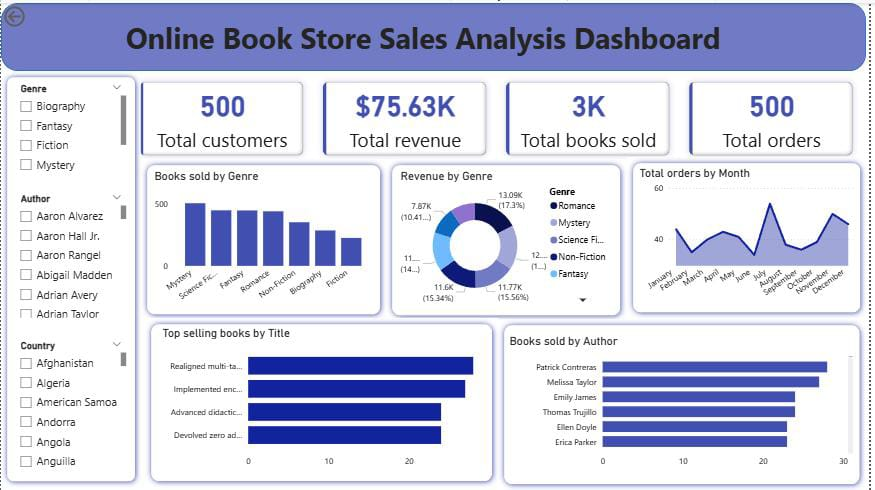

Layout of this report page (visuals, bound fields, positions):
{"tool":"powerbi","page":{"name":"Page 1","canvas":[1284,740],"ordinal":0},"visuals":[{"type":"slicer","fields":{"Values":["Books.Genre"]},"box":[999.4,23,280.8,240.5],"z":0},{"type":"slicer","fields":{"Values":["Customers.Country"]},"box":[1055.5,0,224.6,247.7],"z":1000},{"type":"shape","box":[0,0,1280.2,100.8],"z":2000},{"type":"textbox","box":[99.4,17.3,1051.2,67.7],"z":3000},{"type":"actionButton","box":[0,0,100,40],"z":4000},{"type":"cardVisual","fields":{"Data":["Books.Total customers","Books.Total revenue","Books.Total books sold","Books.Total orders"]},"box":[190.1,100.8,1090.1,141.1],"z":5000},{"type":"shape","box":[570.2,230.4,355.7,240.5],"z":6000},{"type":"shape","box":[925.9,227.5,354.2,239],"z":7000},{"type":"shape","box":[207.4,230.4,362.9,239],"z":8000},{"type":"clusteredColumnChart","fields":{"Category":["Books.Genre"],"Y":["Sum(Orders.Quantity)"]},"box":[221.8,246.2,332.6,207.4],"z":9000},{"type":"shape","box":[213.1,466.6,522.7,250.6],"z":10000},{"type":"shape","box":[735.7,467,544.3,253.6],"z":11000},{"type":"areaChart","fields":{"Category":["Orders.Order_Date.Variation.Date Hierarchy.Month"],"Y":["Books.Total orders"]},"box":[940.3,241.9,328.3,211.7],"z":12000},{"type":"shape","box":[0,100.8,207.4,616.3],"z":14000},{"type":"slicer","fields":{"Values":["Books.Genre"]},"box":[15.8,113.8,174.2,149.8],"z":15000},{"type":"slicer","fields":{"Values":["Customers.Country"]},"box":[15.8,493.9,174.2,203],"z":16000},{"type":"slicer","fields":{"Values":["Books.Author"]},"box":[15.8,276.5,174.2,194.4],"z":17000},{"type":"donutChart","fields":{"Category":["Books.Genre"],"Y":["Sum(Orders.Total_Amount)"]},"box":[586.1,246.2,326.9,207.4],"z":18000},{"type":"barChart","fields":{"Category":["Books.Title"],"Y":["Sum(Orders.Quantity)"]},"box":[233.5,478.7,477.1,218.4],"z":19000},{"type":"clusteredBarChart","fields":{"Category":["Books.Author"],"Y":["Sum(Orders.Quantity)"]},"box":[747.5,490.5,519.1,206.6],"z":20000}]}

Visuals, with their boxes in screenshot pixels (x1, y1, x2, y2), scaled from the page's 1284x740 canvas onto the 875x490 screenshot:
slicer - Books.Genre: box(681, 15, 872, 174)
slicer - Customers.Country: box(719, 0, 872, 164)
shape: box(0, 0, 872, 67)
textbox: box(68, 11, 784, 56)
actionButton: box(0, 0, 68, 26)
cardVisual - Books.Total customers x Books.Total revenue: box(130, 67, 872, 160)
shape: box(389, 153, 631, 312)
shape: box(631, 151, 872, 309)
shape: box(141, 153, 389, 311)
clusteredColumnChart - Books.Genre x Sum(Orders.Quantity): box(151, 163, 378, 300)
shape: box(145, 309, 501, 475)
shape: box(501, 309, 872, 477)
areaChart - Orders.Order_Date.Variation.Date Hierarchy.Month x Books.Total orders: box(641, 160, 865, 300)
shape: box(0, 67, 141, 475)
slicer - Books.Genre: box(11, 75, 129, 175)
slicer - Customers.Country: box(11, 327, 129, 461)
slicer - Books.Author: box(11, 183, 129, 312)
donutChart - Books.Genre x Sum(Orders.Total_Amount): box(399, 163, 622, 300)
barChart - Books.Title x Sum(Orders.Quantity): box(159, 317, 484, 462)
clusteredBarChart - Books.Author x Sum(Orders.Quantity): box(509, 325, 863, 462)
